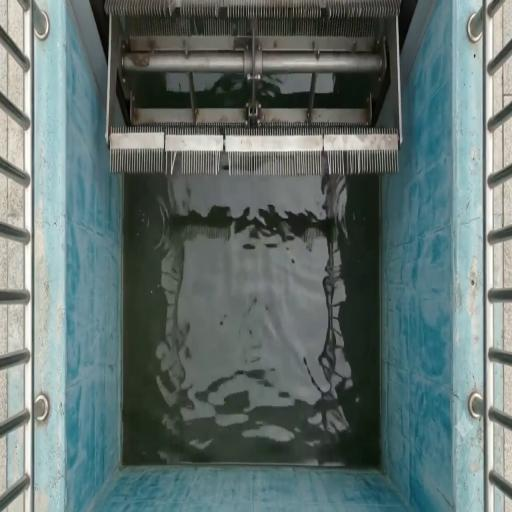rake: (88, 0, 417, 178)
rake_broken: (311, 134, 362, 183), (150, 131, 196, 184), (205, 131, 237, 181)
